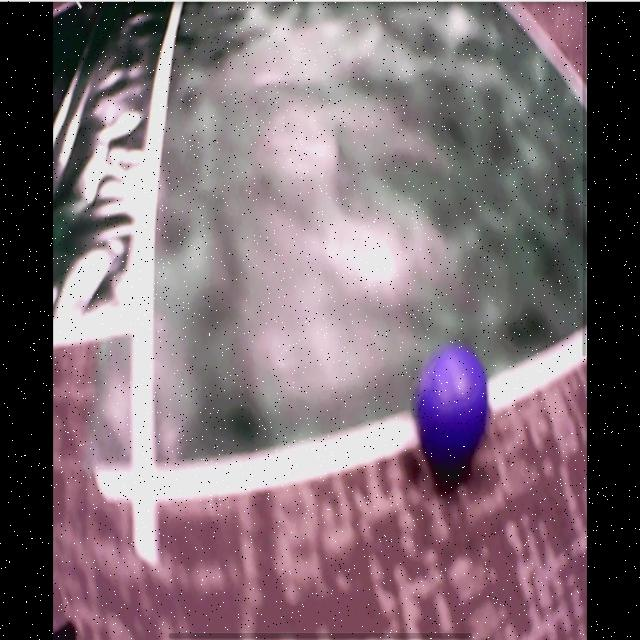ball: (414, 344, 489, 460)
